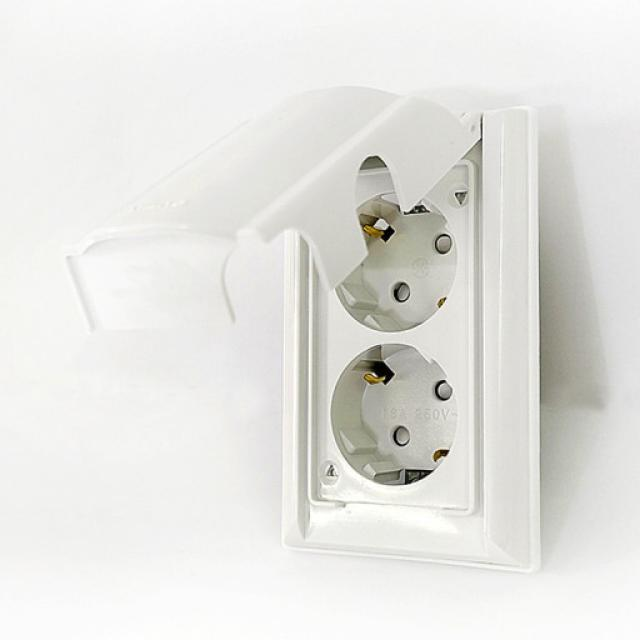typeb: (17, 73, 592, 582)
